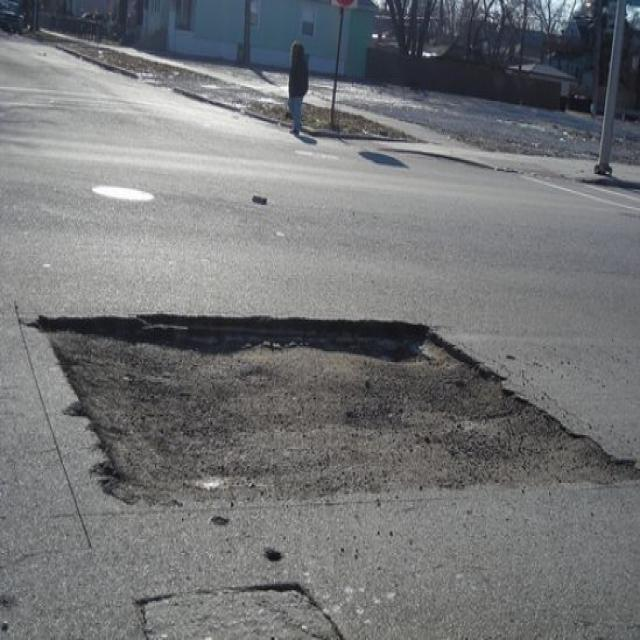Pothole: (23, 304, 640, 512)
